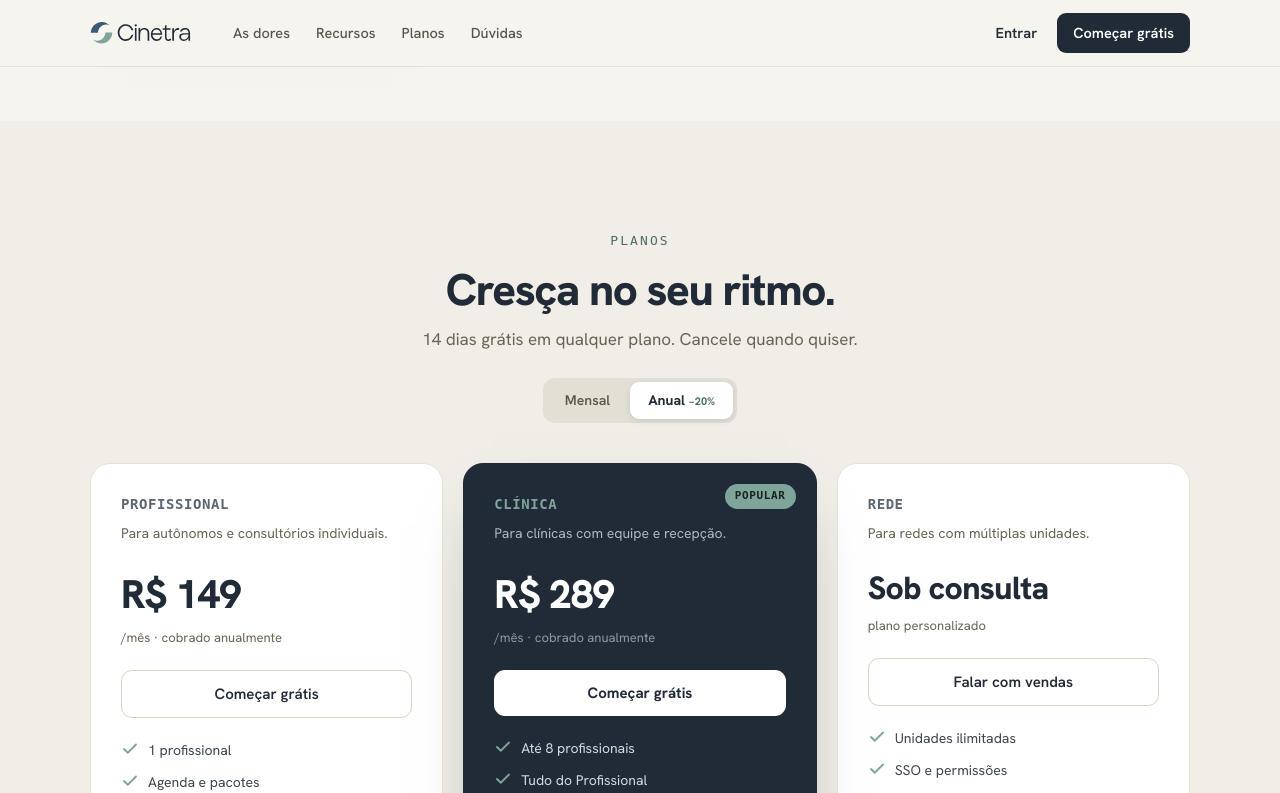
Test case: landing / › o toggle de cobrança troca o preço exibido (anual → mensal)
(page scrolled)
Expected: the text "R$ 289" is shown, [494, 568, 614, 620]
Click the button "Mensal": (588, 401) [547, 382, 628, 419]
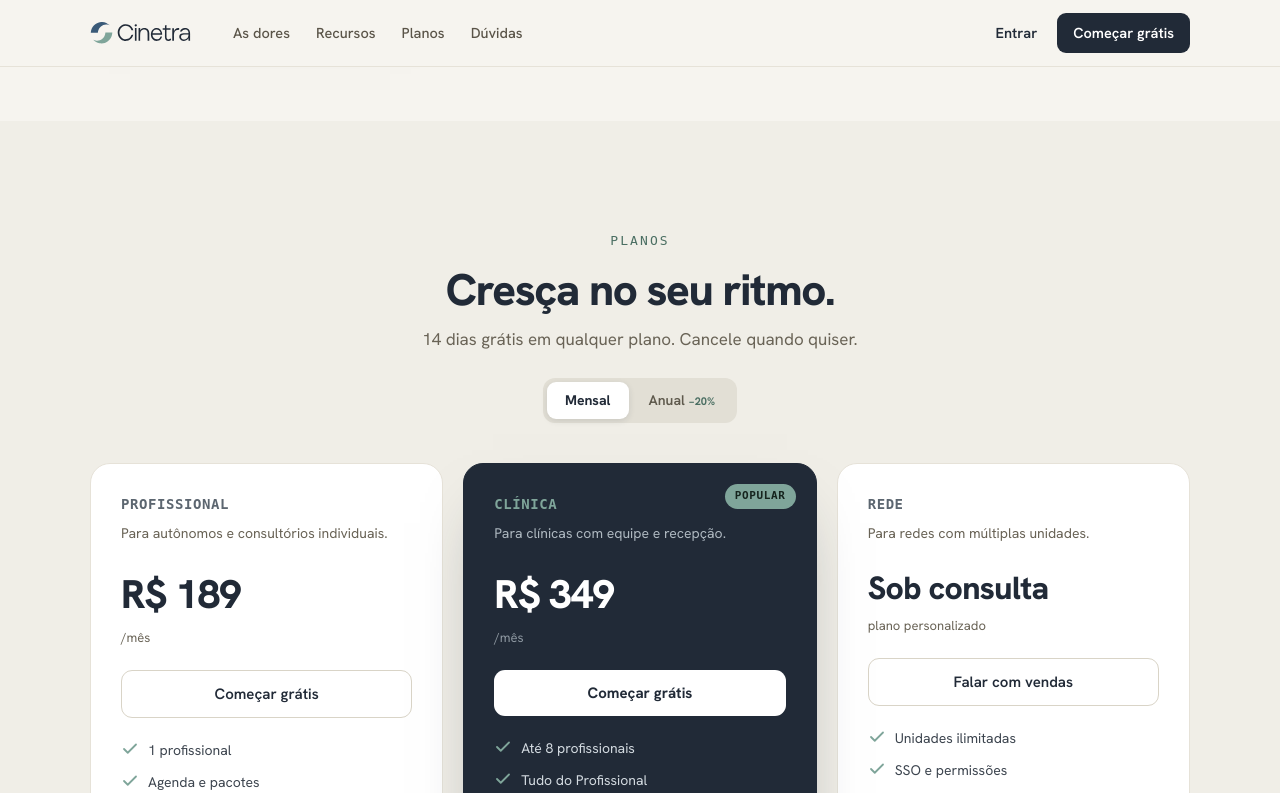
Now the text "R$ 349" is shown, box [494, 568, 614, 620]
